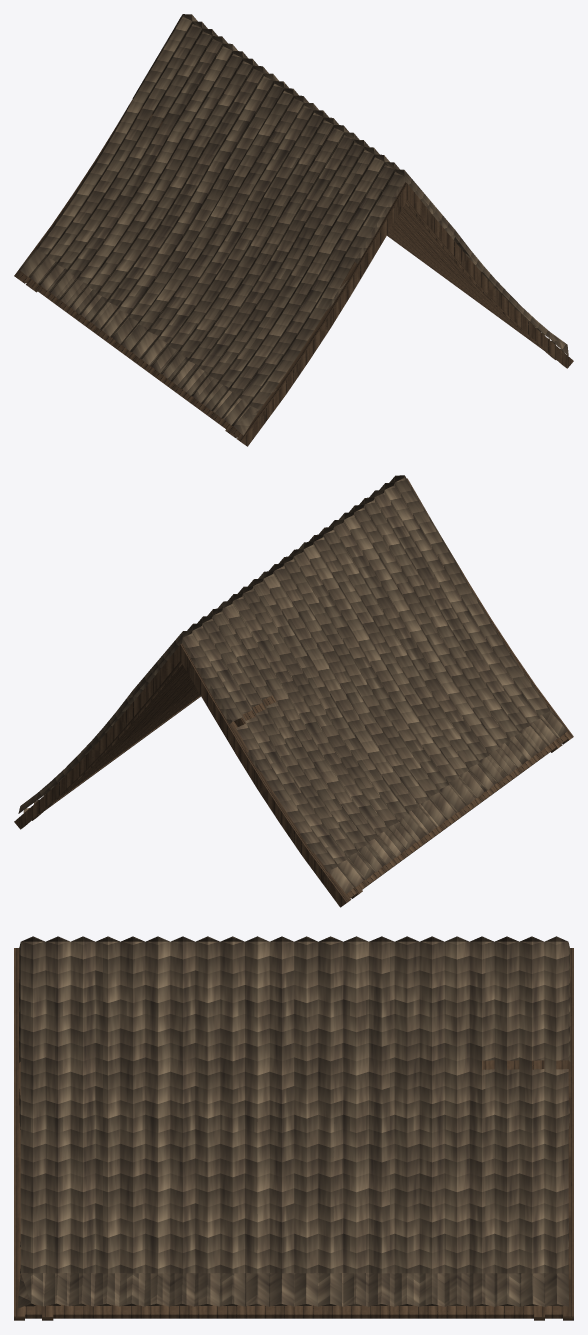
The model's file is Roof_Shingle_8x10.gltf.
The picture shows the model from 3 angles, top to bottom: view 1: azimuth 30°, elevation 25°; view 2: azimuth 150°, elevation 25°; view 3: azimuth 270°, elevation 25°; orthographic projection. The views are drawn at different scales.
Visible parts, largest first — view 1: Roof_Shingle_8x10; view 2: Roof_Shingle_8x10; view 3: Roof_Shingle_8x10.
Part boxes in pixels (<box>): Roof_Shingle_8x10: <box>14,14,573,446</box>; Roof_Shingle_8x10: <box>14,475,573,907</box>; Roof_Shingle_8x10: <box>14,936,573,1320</box>.
Size of the model in its own units: 9.95 by 6.58 by 11.71.
2 materials, 2 textured.
